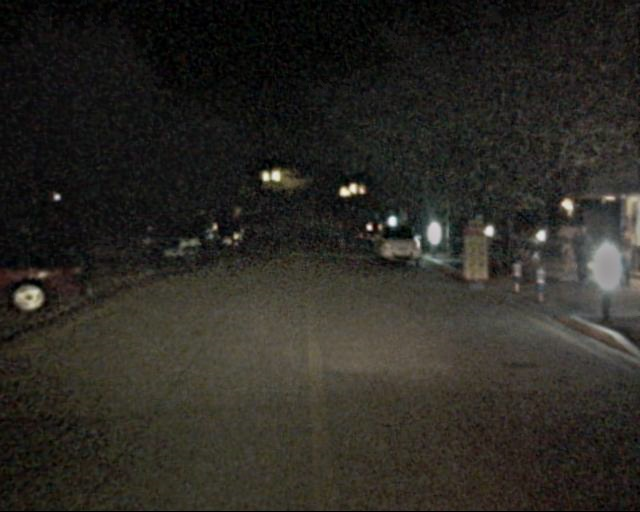person: (603, 223, 632, 294), (565, 225, 592, 292)
